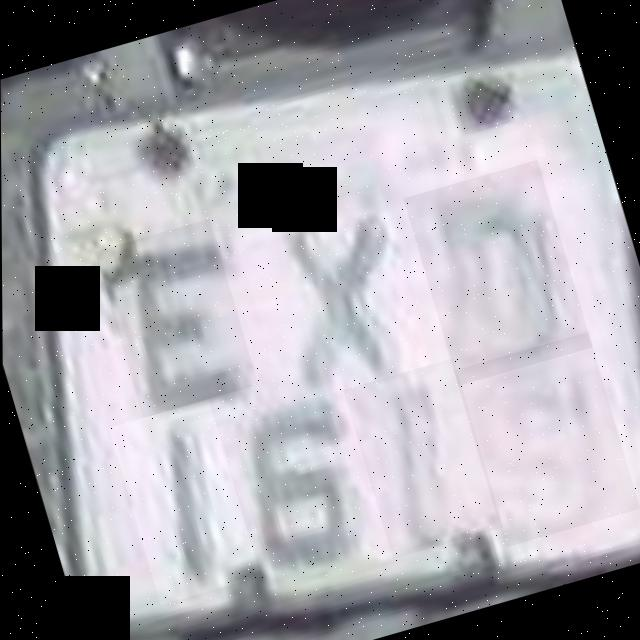1: (342, 358, 502, 558), (107, 398, 260, 604)
6: (215, 377, 396, 594)
9: (453, 331, 640, 547)
E: (93, 218, 257, 417)
O: (403, 159, 592, 385)
X: (233, 187, 431, 406)
